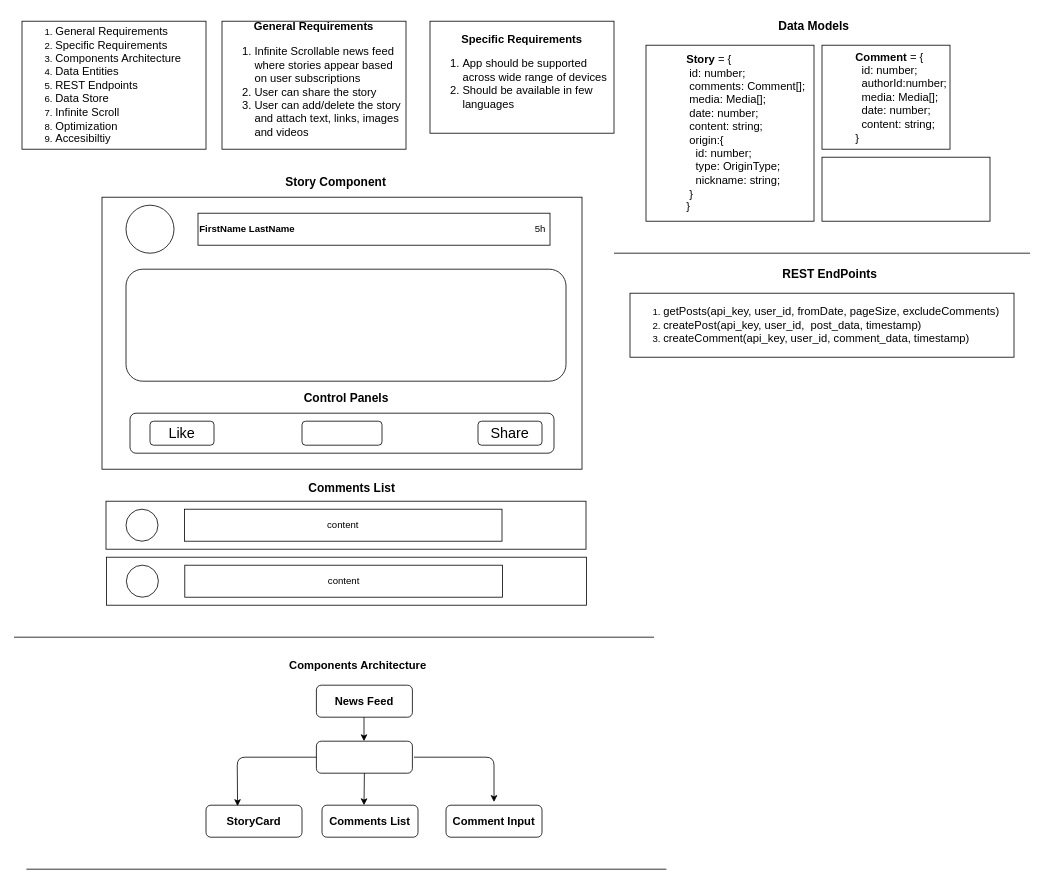
The diagram is 1045 pixels wide and 884 high, and some of its shapes have lost their labels. The shapes that lost their labels are listed below. From the top down, each one's centre as x and y in pixels, then its label:
At point 905,188: "Media = { type: 'IMAGE' | 'VIDEO'; url: string; }".
At point 345,324: "Text and Image Content".
At point 341,432: "Comment".
At point 364,756: "Story".
